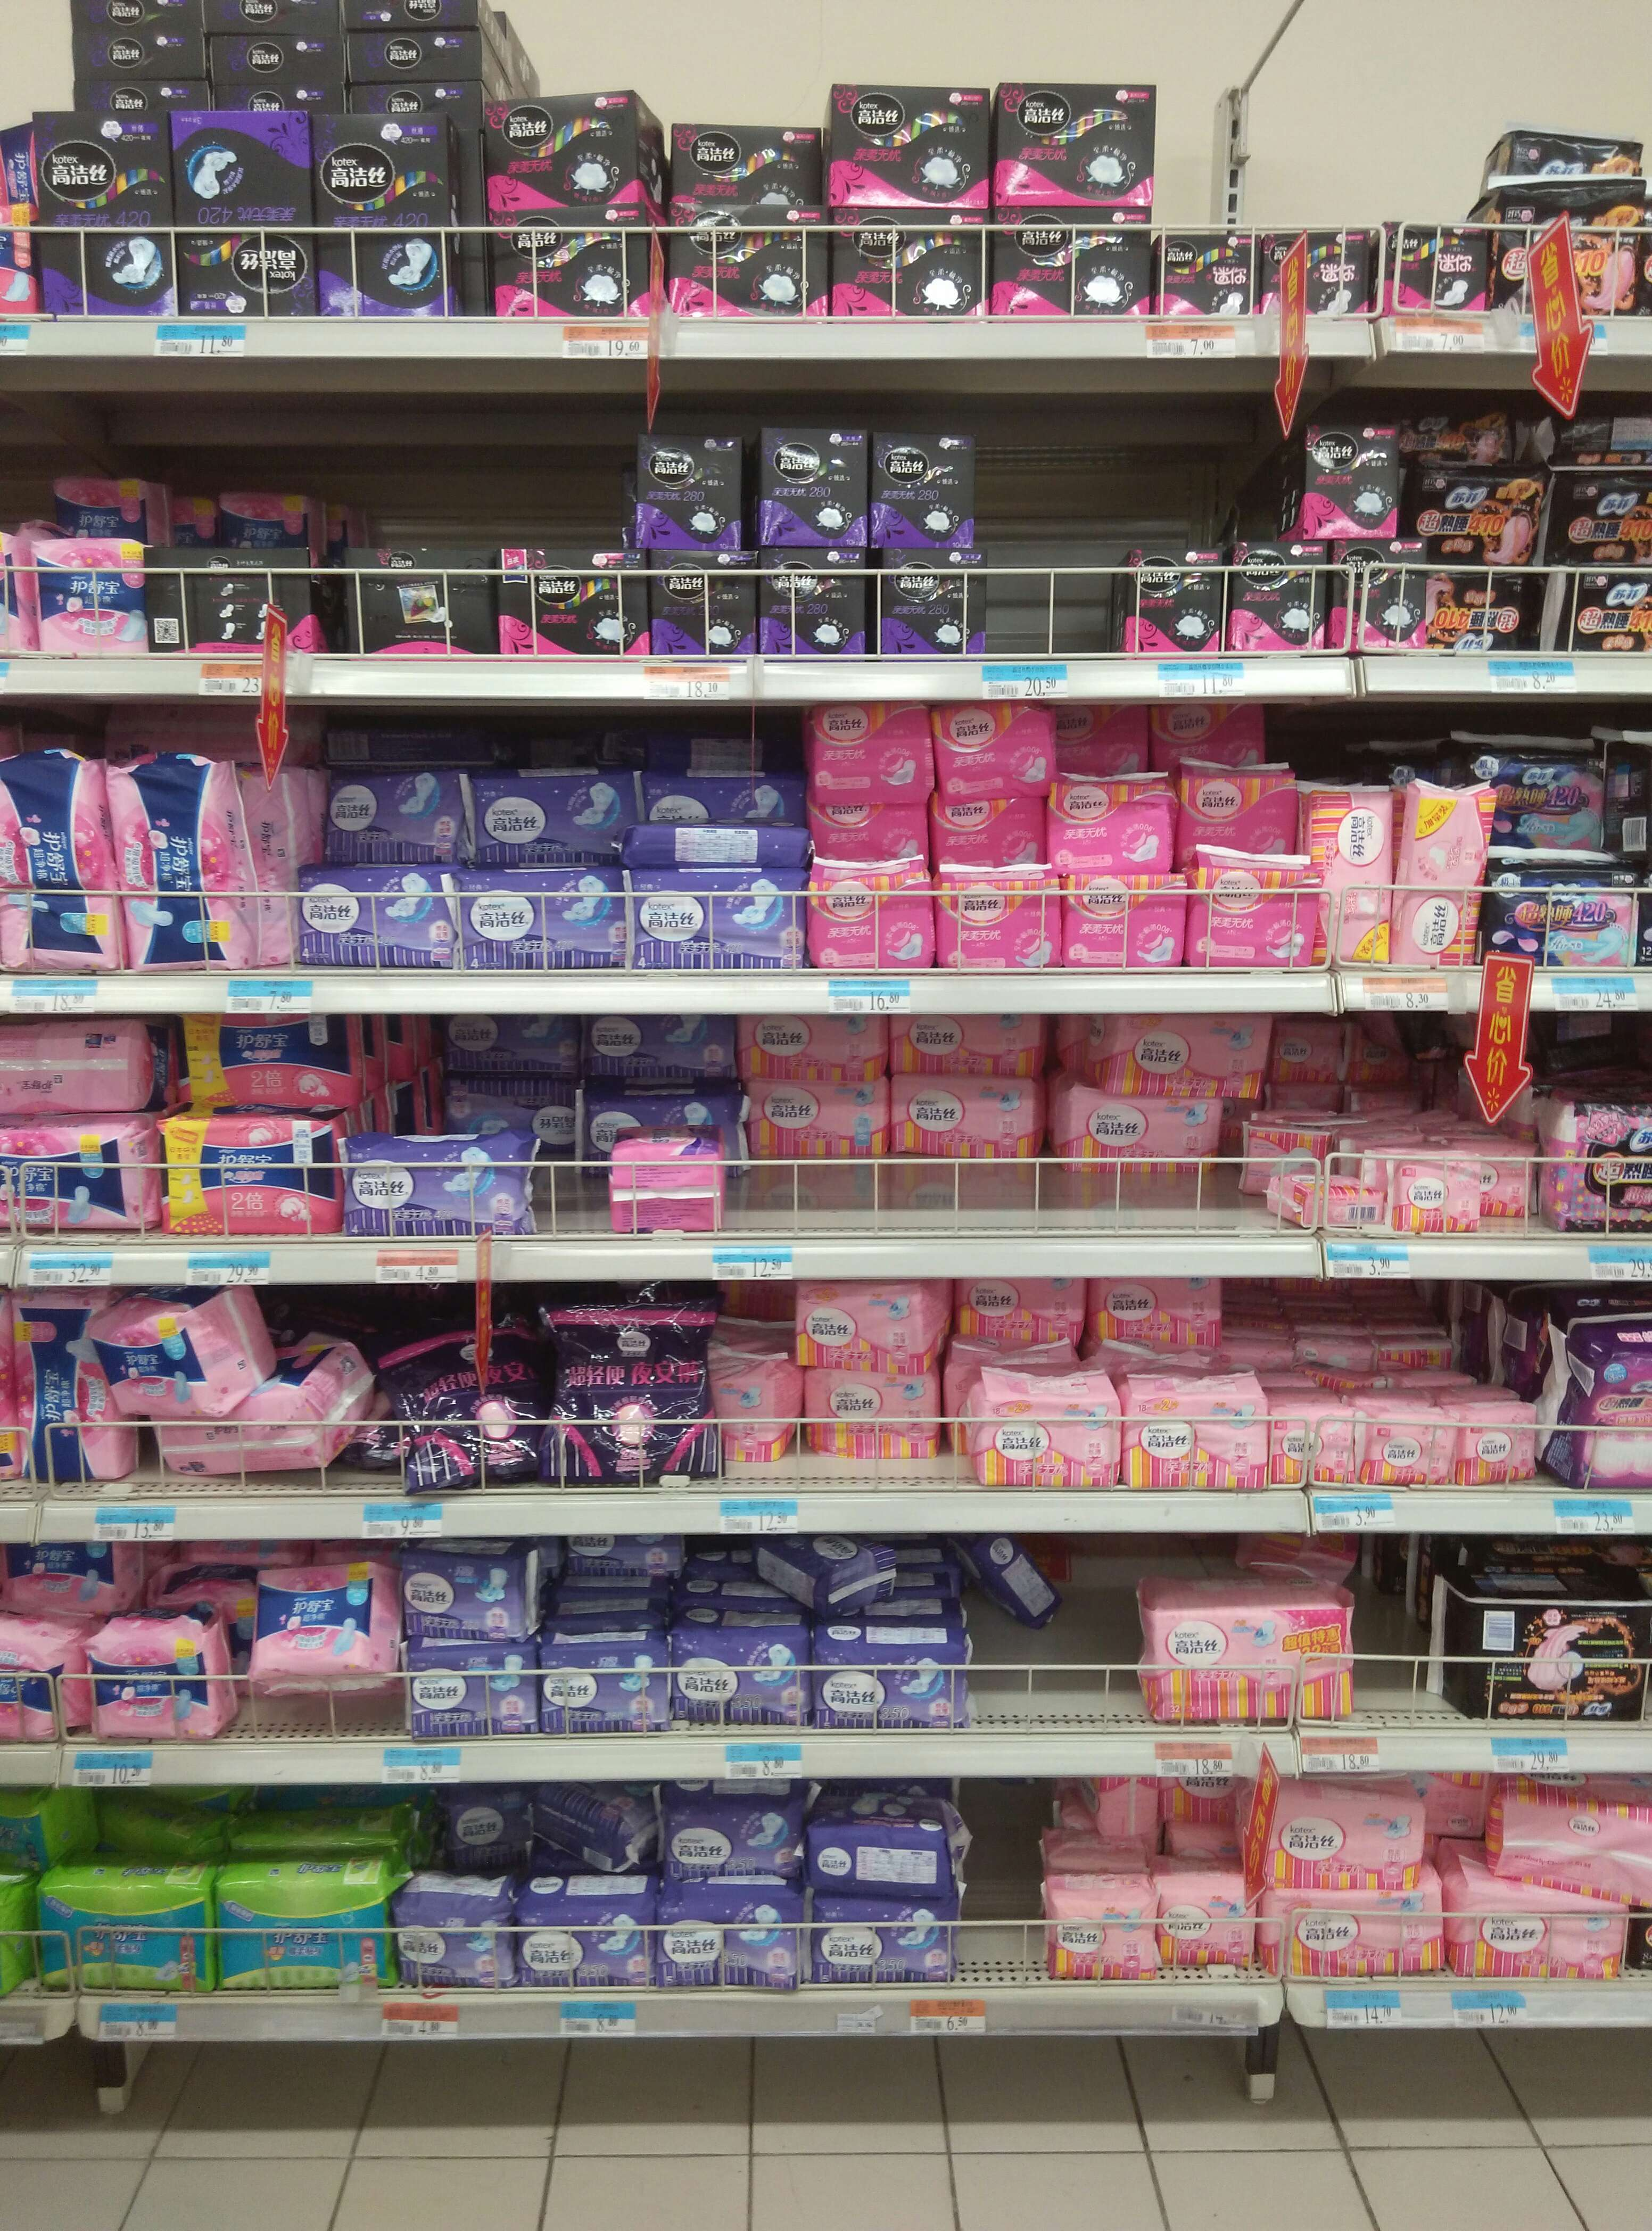Misplacement: (739, 1011, 1253, 1237)
Out-of-stock: (987, 416, 1126, 661)
